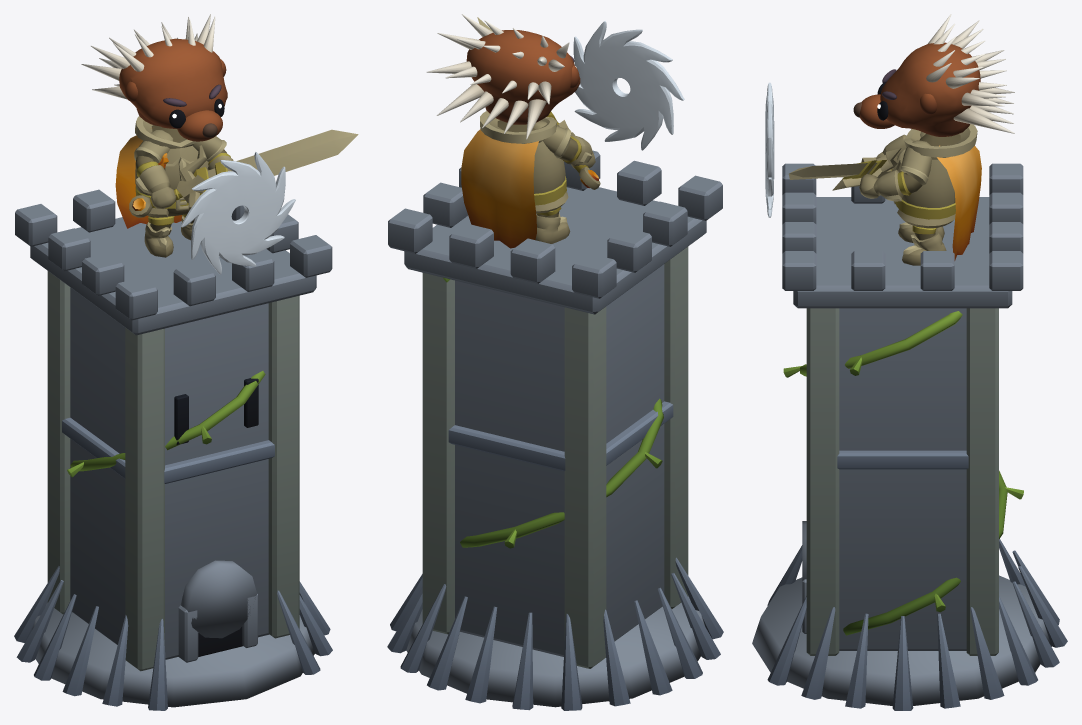
File: tower_hedgehog_shred.glb
3 renders of one model, left to right at view 1: azimuth 30°, elevation 25°; view 2: azimuth 150°, elevation 25°; view 3: azimuth 270°, elevation 25°, orthographic. The views are drawn at different scales.
Visible parts, largest first — view 1: CustomTowerBase_hedgehog_shred, Hazard_Saw, HhHead, 2H_Sword, Knight_Body, Knight_ArmRight, Knight_Cape, Knight_LegRight, HhMuzzle, Knight_ArmLeft; view 2: CustomTowerBase_hedgehog_shred, Hazard_Saw, Knight_Cape, HhHead, Knight_Body, Knight_ArmRight, Knight_LegRight, 2H_Sword; view 3: CustomTowerBase_hedgehog_shred, HhHead, Knight_Body, Knight_Cape, Knight_ArmLeft, 2H_Sword, Hazard_Saw, Knight_LegLeft, HhMuzzle, QSpike.021.
Boxes of the visible parts, left/top/right/bottom form: CustomTowerBase_hedgehog_shred: left=14, top=189, right=332, bottom=710; Hazard_Saw: left=180, top=152, right=295, bottom=274; HhHead: left=119, top=38, right=227, bottom=128; 2H_Sword: left=129, top=129, right=358, bottom=217; Knight_Body: left=135, top=116, right=208, bottom=217; Knight_ArmRight: left=134, top=130, right=175, bottom=208; Knight_Cape: left=115, top=127, right=181, bottom=228; Knight_LegRight: left=144, top=216, right=174, bottom=257; HhMuzzle: left=177, top=110, right=222, bottom=141; Knight_ArmLeft: left=193, top=136, right=233, bottom=170; CustomTowerBase_hedgehog_shred: left=387, top=150, right=723, bottom=710; Hazard_Saw: left=573, top=21, right=684, bottom=150; Knight_Cape: left=461, top=129, right=538, bottom=248; HhHead: left=466, top=30, right=580, bottom=124; Knight_Body: left=480, top=111, right=568, bottom=213; Knight_ArmRight: left=533, top=120, right=595, bottom=168; Knight_LegRight: left=535, top=206, right=570, bottom=243; 2H_Sword: left=477, top=17, right=600, bottom=189; CustomTowerBase_hedgehog_shred: left=752, top=163, right=1067, bottom=710; HhHead: left=880, top=42, right=980, bottom=136; Knight_Body: left=893, top=124, right=977, bottom=228; Knight_Cape: left=937, top=145, right=981, bottom=260; Knight_ArmLeft: left=859, top=140, right=931, bottom=201; 2H_Sword: left=788, top=148, right=901, bottom=190; Hazard_Saw: left=765, top=82, right=774, bottom=217; Knight_LegLeft: left=902, top=225, right=946, bottom=265; HhMuzzle: left=859, top=94, right=894, bottom=128; QSpike.021: left=953, top=108, right=1014, bottom=133.
Size of the model in its own units: 1.12 by 2.29 by 1.07.
6 materials, 3 textured.
